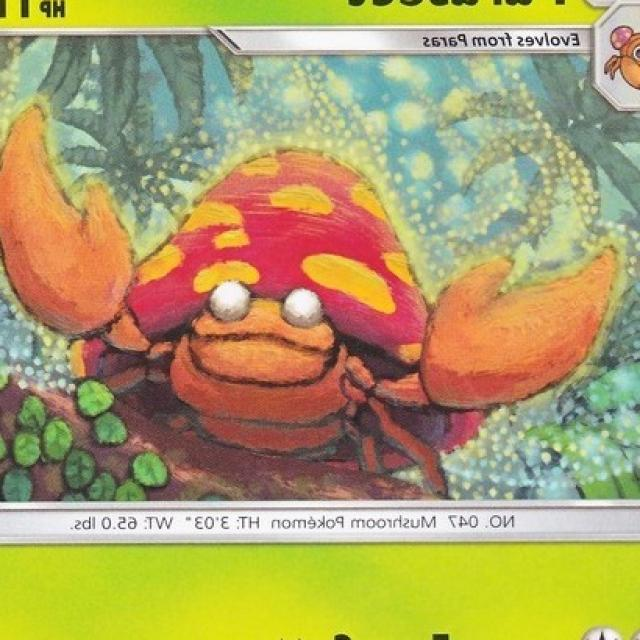Parasect: (0, 150, 536, 453)
